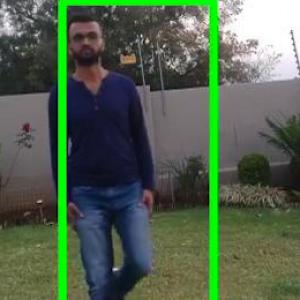follow: (51, 16, 153, 299)
